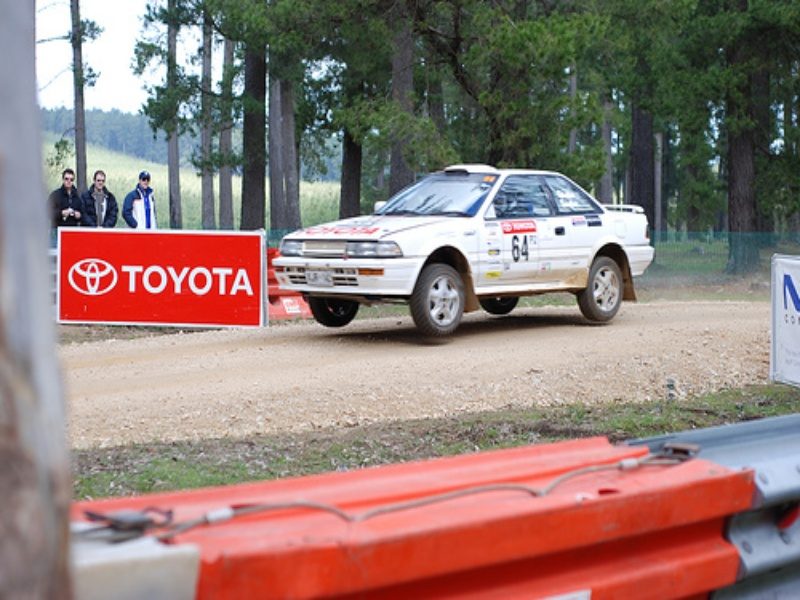car: (272, 163, 656, 339)
person: (121, 170, 157, 230), (81, 170, 118, 228), (47, 168, 81, 228)
